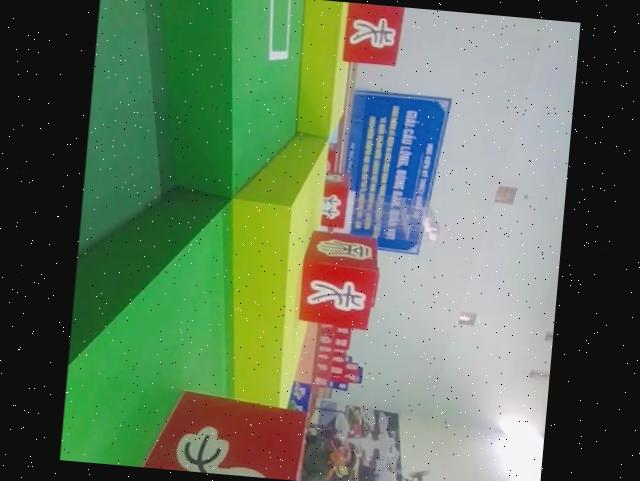R2 Fake: (295, 231, 376, 332), (341, 2, 406, 67)
R2 Real: (117, 380, 315, 481)
